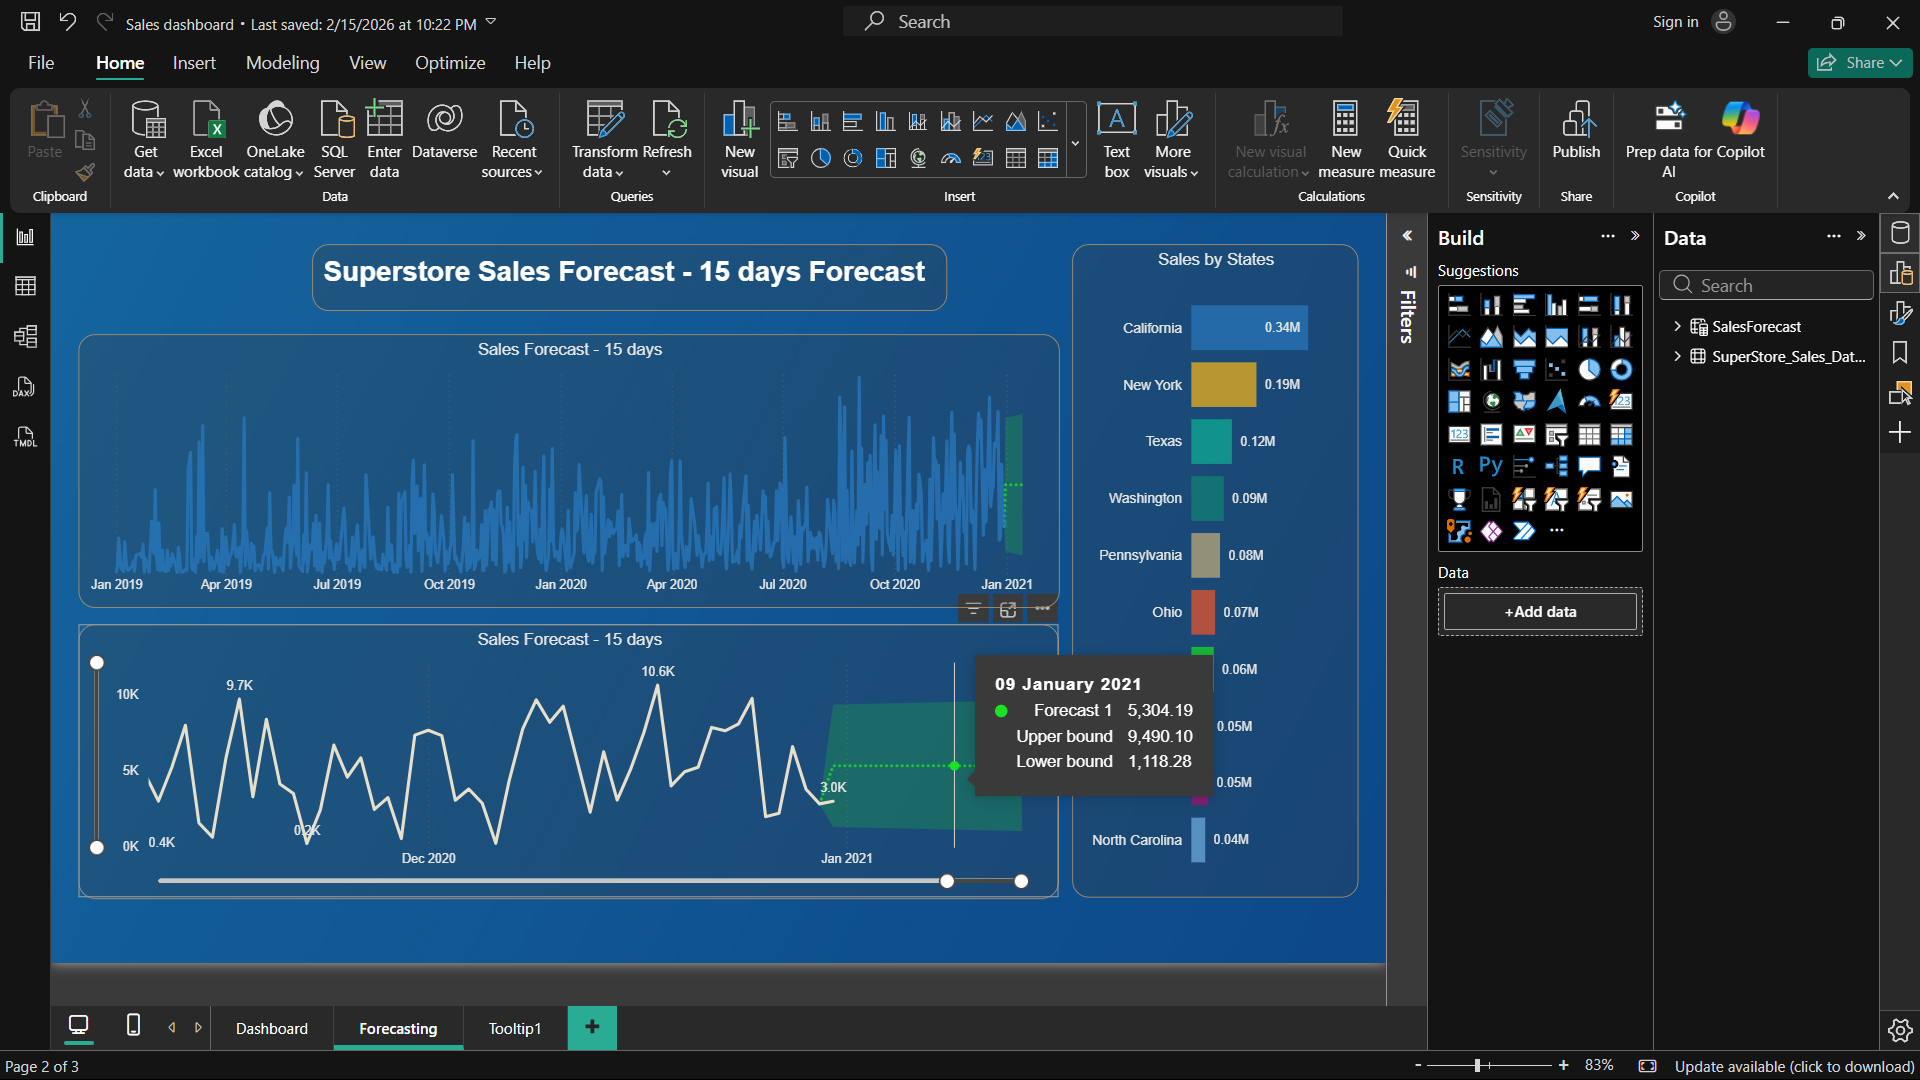

The dashboard page shown, as its layout file describes it:
{"tool":"powerbi","page":{"name":"Forecasting","canvas":[1280,720],"ordinal":1},"visuals":[{"type":"lineChart","title":"Sales Forecast - 15 days","fields":{"Y":["Sum(SuperStore_Sales_Dataset.Sales)"],"Category":["SuperStore_Sales_Dataset.Order Date"]},"box":[26.2,394.1,940.3,263.1],"z":0},{"type":"clusteredBarChart","title":"Sales by States","fields":{"Y":["Sum(SuperStore_Sales_Dataset.Sales)"],"Category":["SuperStore_Sales_Dataset.State"]},"box":[979.2,30.2,274.1,626.1],"z":1000},{"type":"lineChart","title":"Sales Forecast - 15 days","fields":{"Y":["Sum(SuperStore_Sales_Dataset.Sales)"],"Category":["SuperStore_Sales_Dataset.Order Date"]},"box":[26.7,116.2,940.8,262.5],"z":2000},{"type":"textbox","box":[250,30,609,64],"z":3000}]}

Visuals, with their boxes on the page's 1280x720 design canvas (x1, y1, x2, y2). These are canvas units, not pixel positions in the 1920x1080 screenshot, which may show the page scaled, cropped or inside an application window:
"Sales Forecast - 15 days" lineChart: detection(26, 394, 966, 657)
"Sales by States" clusteredBarChart: detection(979, 30, 1253, 656)
"Sales Forecast - 15 days" lineChart: detection(27, 116, 968, 379)
textbox: detection(250, 30, 859, 94)
